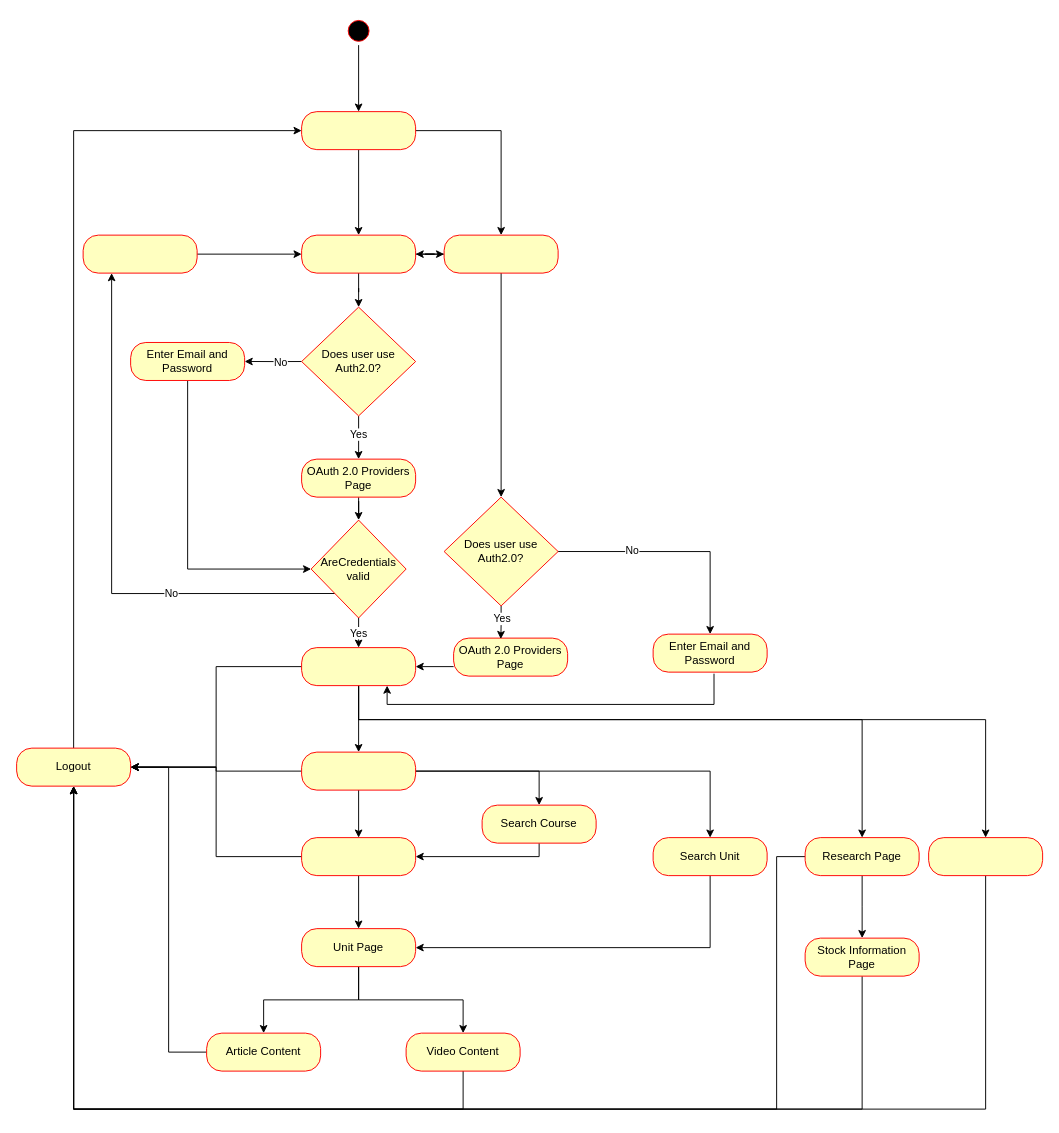
Some shapes in this 1059 by 1133 pixel diagram are drawn without their labels. The shapes that lost their labels are listed below. From the top down, each one's box as (x1, y1, x2, y2) in pixels, then its label:
(301, 111, 416, 150): Landing Page
(82, 234, 197, 273): Display error message
(301, 234, 416, 273): Login
(443, 234, 558, 273): Signup
(301, 647, 416, 686): Dashboard
(301, 751, 416, 790): All Courses
(301, 837, 416, 876): Course Page
(928, 837, 1043, 876): Trading Page
